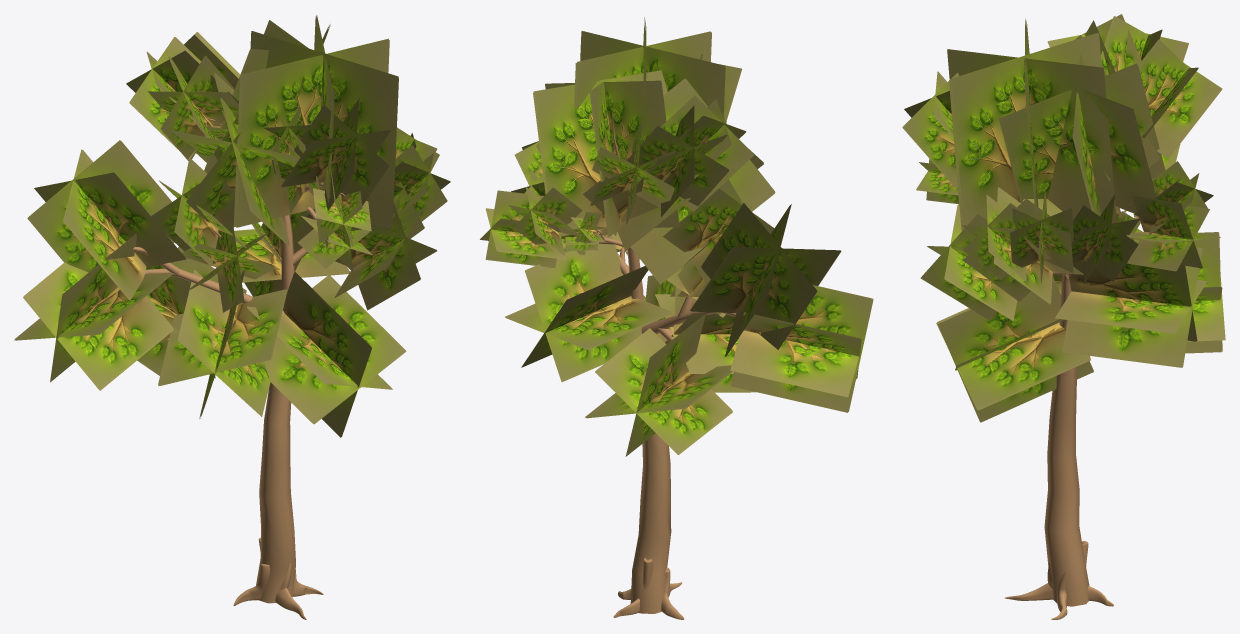
Rendered from TreeWithLeafs.fbx.
3 views of the same model, side by side, from view 1: azimuth 30°, elevation 25°; view 2: azimuth 150°, elevation 25°; view 3: azimuth 270°, elevation 25° (orthographic). The views are drawn at different scales.
Visible parts, largest first — view 1: Fläche.002, Fläche.003, Tree, Fläche.076, Fläche.090, Fläche.080, Fläche.075, Fläche.088, Fläche.079, Fläche.074, Fläche.073, Fläche.078 (+34 smaller); view 2: Fläche.066, Fläche.085, Tree, Fläche.083, Fläche.077, Fläche.075, Fläche.078, Fläche.073, Fläche.065, Fläche.062, Fläche.002, Fläche.086 (+32 smaller); view 3: Fläche.003, Fläche.001, Tree, Fläche.064, Fläche.088, Fläche.089, Fläche.087, Fläche.066, Fläche.085, Fläche.086, Fläche.051, Fläche.021 (+28 smaller).
Part boxes in pixels (box(x1,y1,x2,y2)): Fläche.002: box(233, 38, 389, 227); Fläche.003: box(250, 31, 398, 229); Tree: box(256, 215, 295, 603); Fläche.076: box(23, 262, 173, 390); Fläche.090: box(264, 275, 406, 424); Fläche.080: box(158, 289, 287, 386); Fläche.075: box(27, 140, 174, 272); Fläche.088: box(283, 272, 371, 437); Fläche.079: box(178, 269, 270, 416); Fläche.074: box(34, 172, 186, 266); Fläche.073: box(63, 149, 146, 306); Fläche.078: box(50, 233, 136, 382); Fläche.066: box(533, 70, 667, 236); Fläche.085: box(525, 234, 642, 382); Tree: box(612, 108, 671, 613); Fläche.083: box(595, 328, 732, 454); Fläche.077: box(730, 315, 870, 397); Fläche.075: box(701, 203, 817, 349); Fläche.078: box(731, 285, 873, 412); Fläche.073: box(690, 247, 841, 312); Fläche.065: box(545, 80, 679, 229); Fläche.062: box(631, 79, 775, 284); Fläche.002: box(580, 31, 725, 119); Fläche.086: box(505, 297, 673, 350); Fläche.003: box(949, 33, 1101, 231); Fläche.001: box(947, 49, 1116, 223); Tree: box(1044, 275, 1089, 606); Fläche.064: box(999, 63, 1165, 203); Fläche.088: box(938, 276, 1093, 422); Fläche.089: box(936, 308, 1090, 410); Fläche.087: box(1062, 239, 1202, 367); Fläche.066: box(1083, 89, 1156, 212); Fläche.085: box(1069, 261, 1197, 341); Fläche.086: box(1055, 280, 1207, 333); Fläche.051: box(1151, 65, 1222, 158); Fläche.021: box(902, 73, 958, 187).
Size of the model in its own units: 1113 by 1563 by 811.
